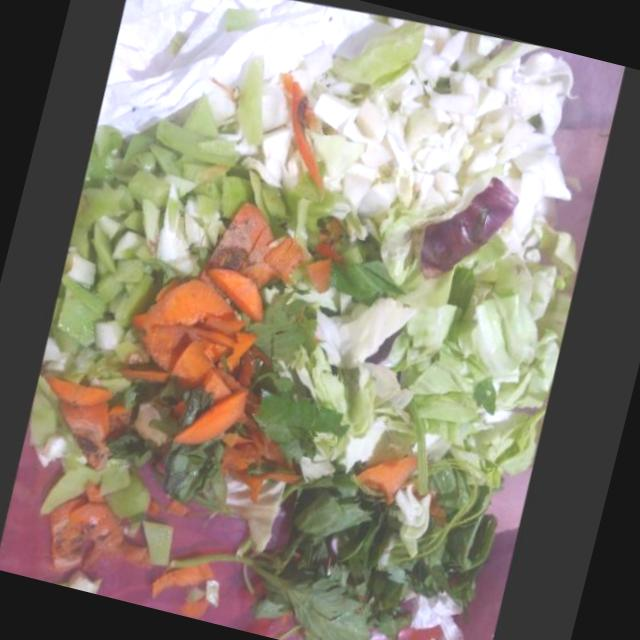vo_rau_cu: (51, 47, 293, 367), (309, 16, 575, 234), (32, 367, 303, 565), (368, 236, 561, 508), (244, 453, 500, 640), (133, 197, 307, 438), (244, 288, 420, 479), (421, 174, 520, 276)
